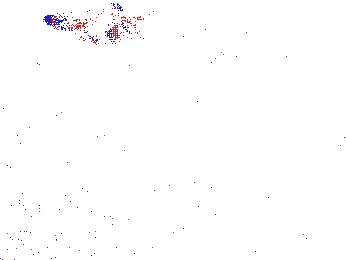red belly glassfish: (187, 51, 241, 69)
redtail glassfish: (41, 9, 142, 45), (97, 3, 124, 45)
